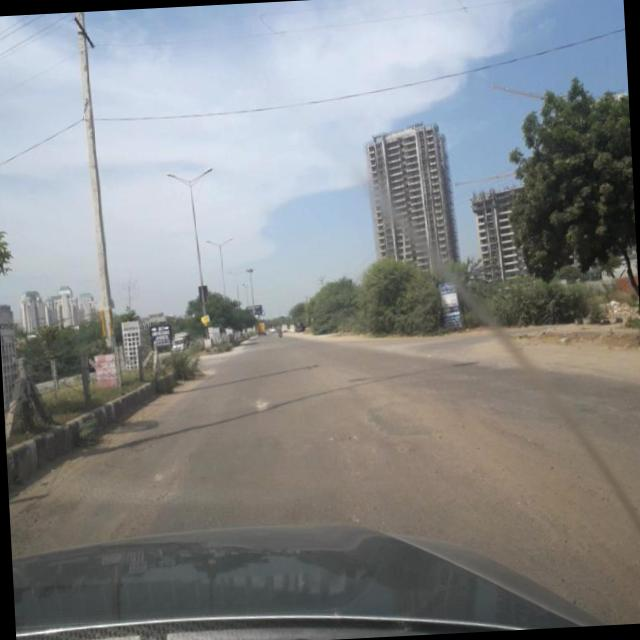crack: (8, 448, 198, 539)
pothole: (262, 407, 364, 461)
